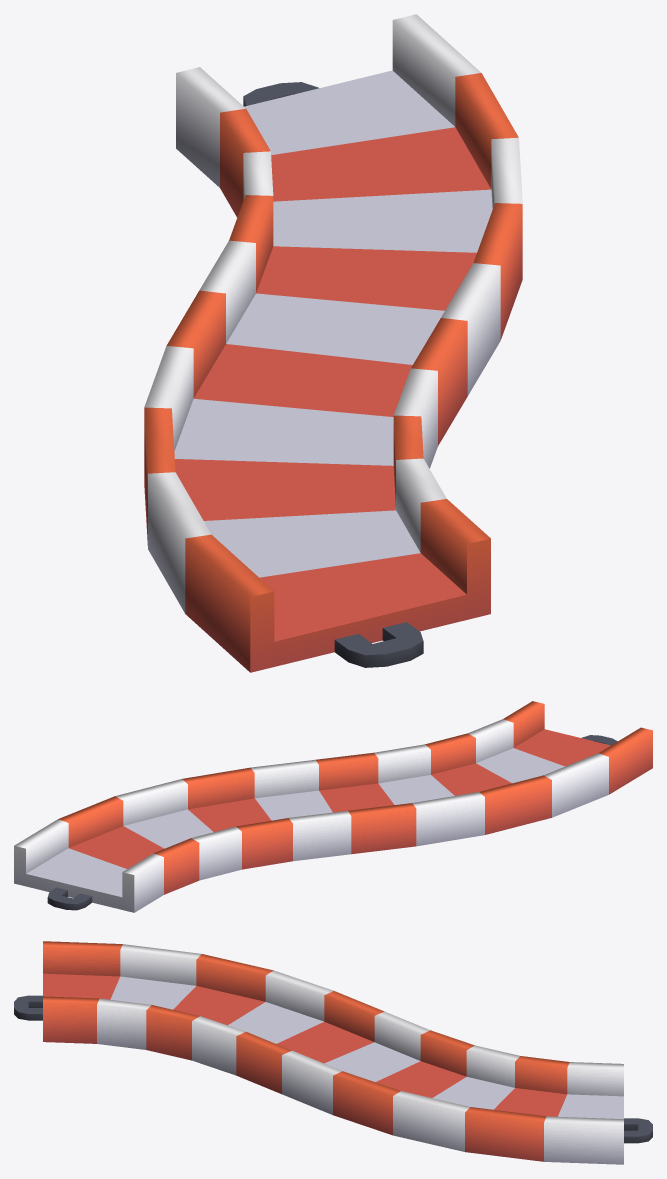
File: track-striped-narrow-curve.glb
3 views of the same model, one above another, from view 1: azimuth 30°, elevation 25°; view 2: azimuth 150°, elevation 25°; view 3: azimuth 270°, elevation 25° (orthographic). The views are drawn at different scales.
Visible parts, largest first — view 1: track-striped-narrow-curve; view 2: track-striped-narrow-curve; view 3: track-striped-narrow-curve.
Boxes of the visible parts, x1,y1,x2,y2 form: track-striped-narrow-curve: [144, 14, 522, 672]; track-striped-narrow-curve: [14, 701, 652, 912]; track-striped-narrow-curve: [14, 941, 652, 1164].
Size of the model in its own units: 9 by 0.9 by 13.2.
1 material, 1 textured.
